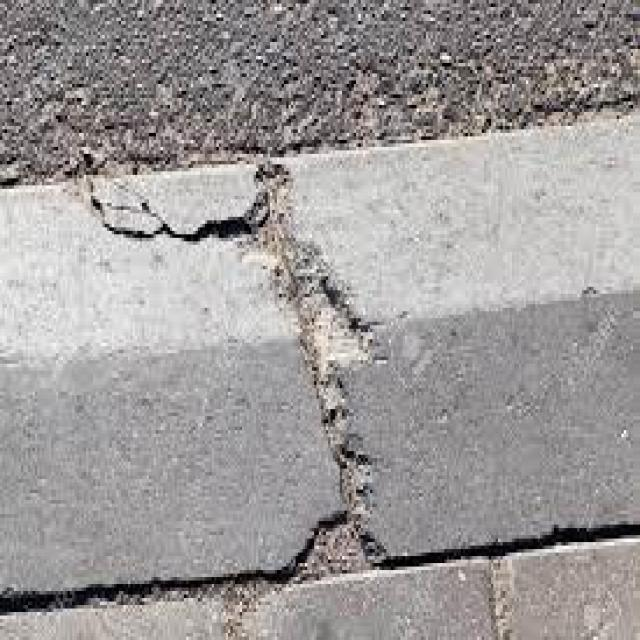curb: (4, 114, 633, 610)
